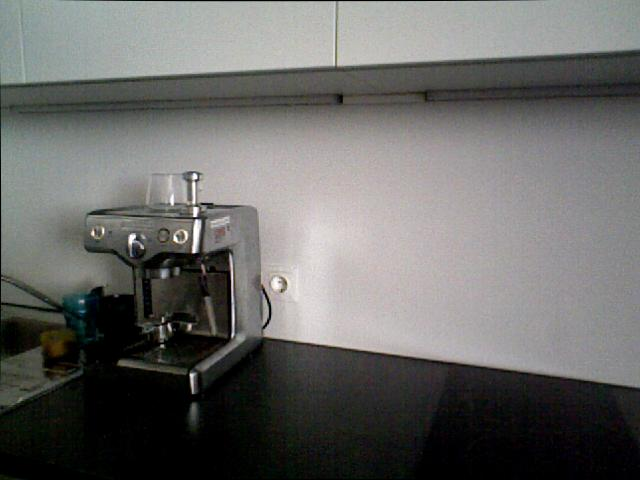couch: (0, 314, 65, 361)
handbag: (145, 171, 203, 215), (97, 291, 142, 345), (61, 292, 98, 344)
